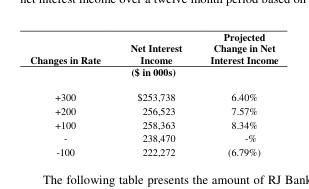table: (29, 29, 277, 157)
table column: (29, 29, 114, 157), (195, 29, 277, 157), (114, 29, 195, 157)
table column header: (29, 29, 277, 65)
table projected row header: (29, 65, 277, 84)
table row: (29, 29, 277, 65), (29, 65, 277, 84), (29, 84, 277, 103), (29, 116, 277, 130), (29, 130, 277, 144), (29, 103, 277, 116), (29, 144, 277, 157)
